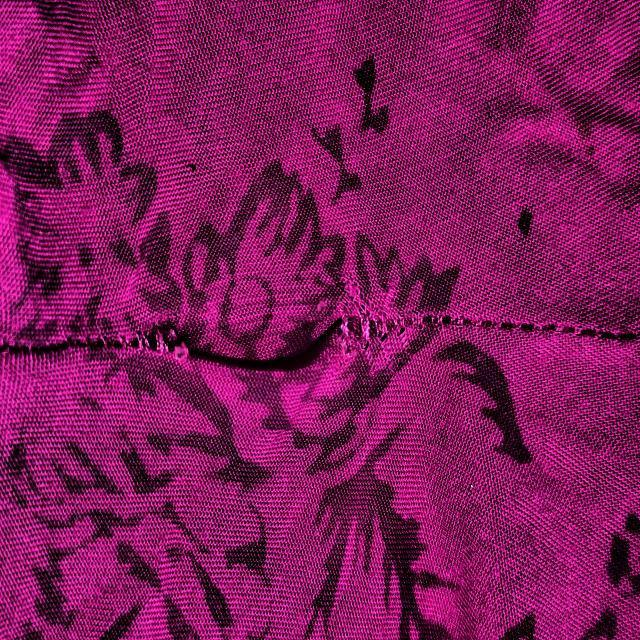gray stitch: (77, 289, 563, 433)
